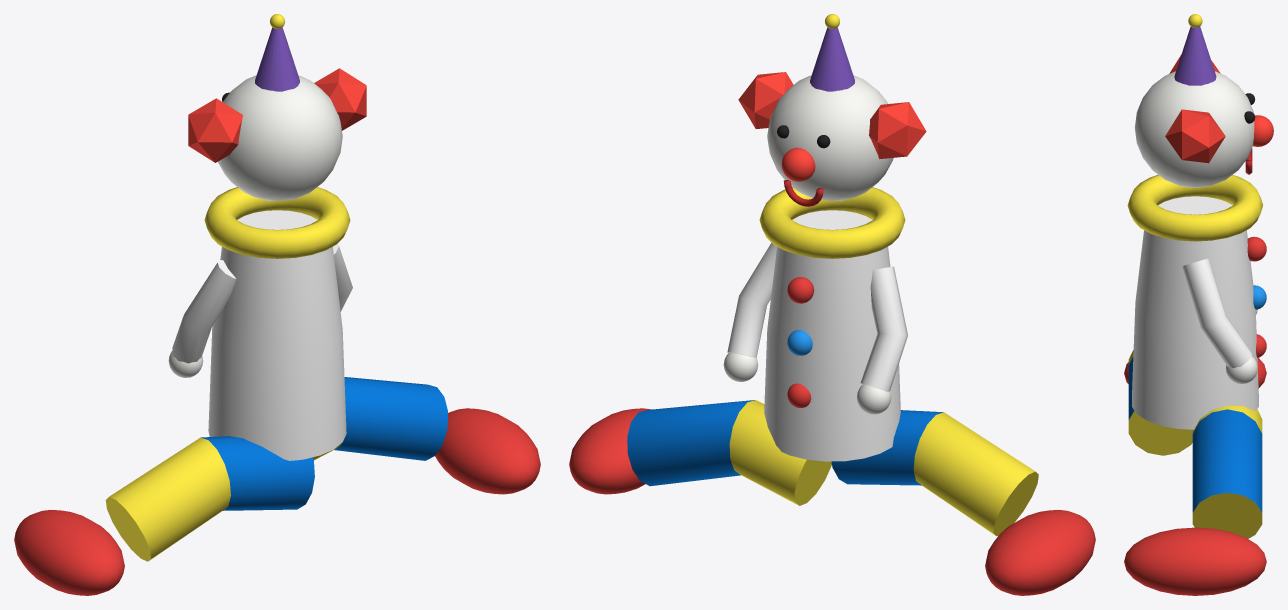
File: folded_clown.fbx
The picture shows the model from 3 angles, left to right: view 1: azimuth 30°, elevation 25°; view 2: azimuth 150°, elevation 25°; view 3: azimuth 270°, elevation 25°; orthographic projection. The views are drawn at different scales.
Visible parts, largest first — view 1: A Second Clown; view 2: A Second Clown; view 3: A Second Clown.
Boxes of the visible parts, x1,y1,x2,y2 form: A Second Clown: (14,14,540,595); A Second Clown: (569,14,1095,595); A Second Clown: (1124,14,1273,595).
Bounding box in the file's own units: 2.98 × 2.98 × 0.84.
